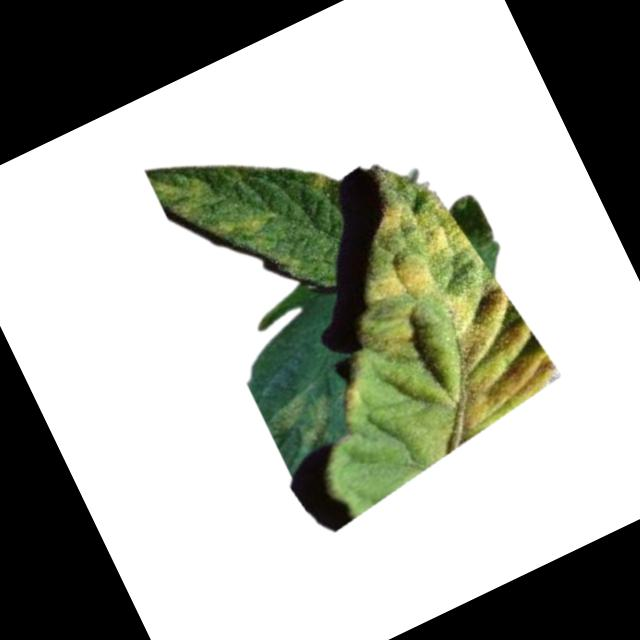Leaf_Mold: (272, 167, 570, 485), (208, 196, 277, 251)
